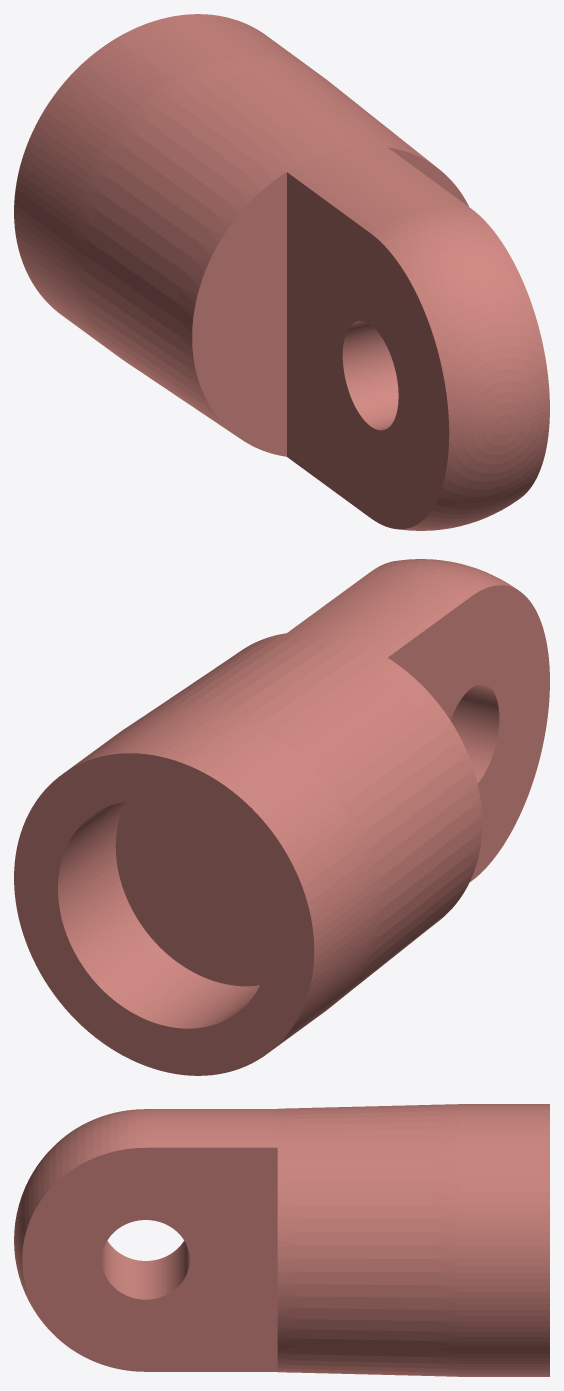
The picture shows the model from 3 angles, top to bottom: view 1: azimuth 30°, elevation 25°; view 2: azimuth 150°, elevation 25°; view 3: azimuth 270°, elevation 25°; orthographic projection. The views are drawn at different scales.
Parts seen in each view (by area): view 1: node; view 2: node; view 3: node.
Part boxes in pixels (x1,y1,x2,y2): node: (14, 14, 549, 530); node: (14, 559, 549, 1075); node: (14, 1104, 549, 1376).
Bounding box in the file's own units: 0.1127 × 0.1127 × 0.2215.
